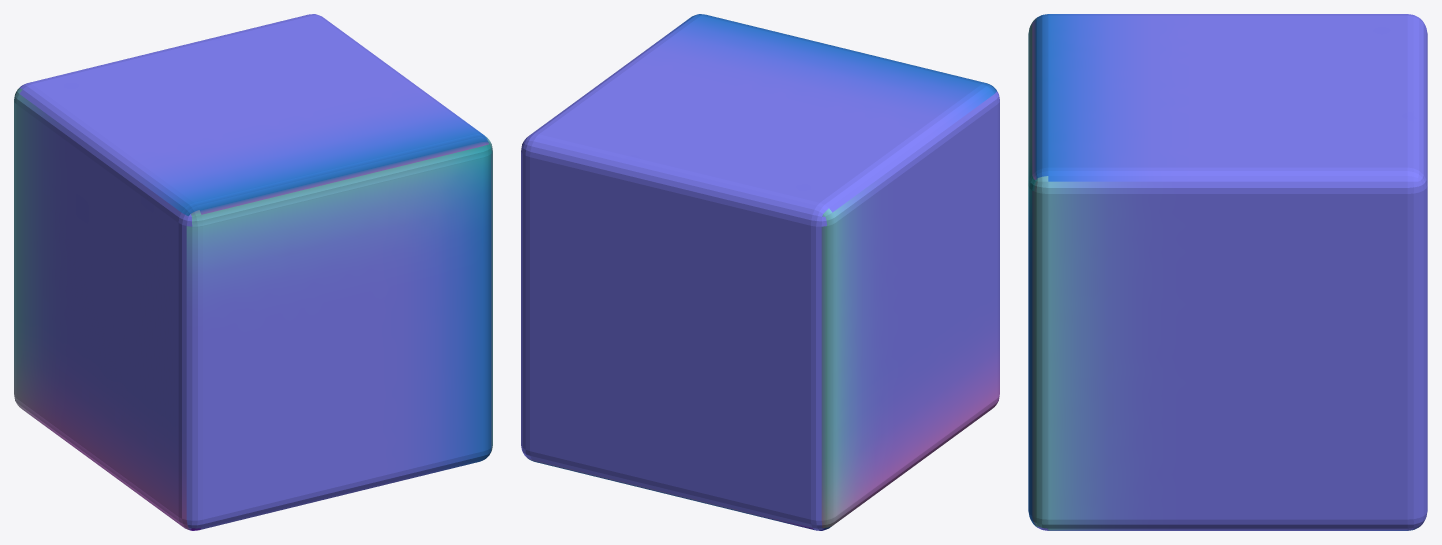
Rendered from roundedCube.fbx.
The picture shows the model from 3 angles, left to right: view 1: azimuth 30°, elevation 25°; view 2: azimuth 150°, elevation 25°; view 3: azimuth 270°, elevation 25°; orthographic projection. The views are drawn at different scales.
Visible parts, largest first — view 1: Cube; view 2: Cube; view 3: Cube.
Boxes of the visible parts, x1=… form: Cube: x1=14, y1=14, x2=492, y2=530; Cube: x1=521, y1=14, x2=999, y2=530; Cube: x1=1028, y1=14, x2=1427, y2=530.
Bounding box in the file's own units: 200 × 200 × 200.
